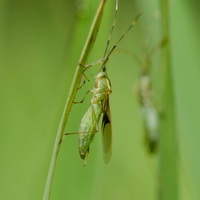insect: (48, 0, 140, 178), (64, 91, 93, 133)
